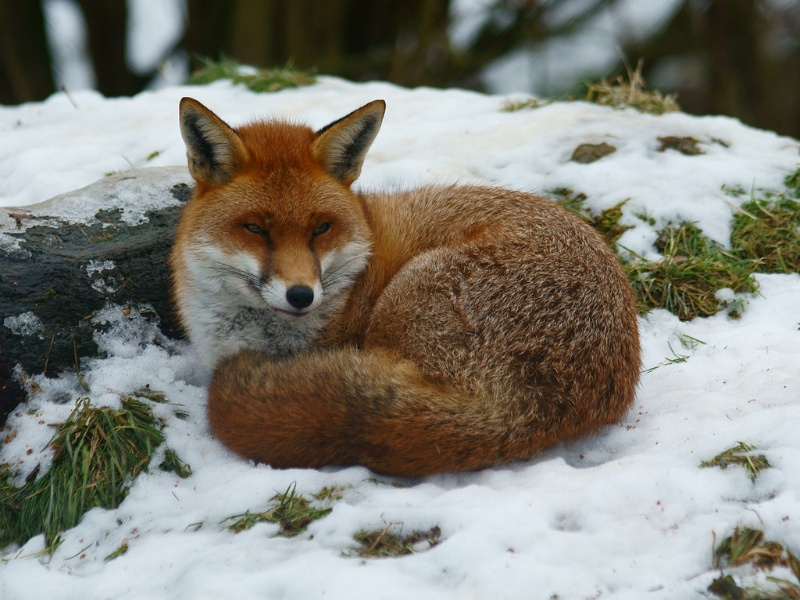fox: (158, 91, 645, 487)
